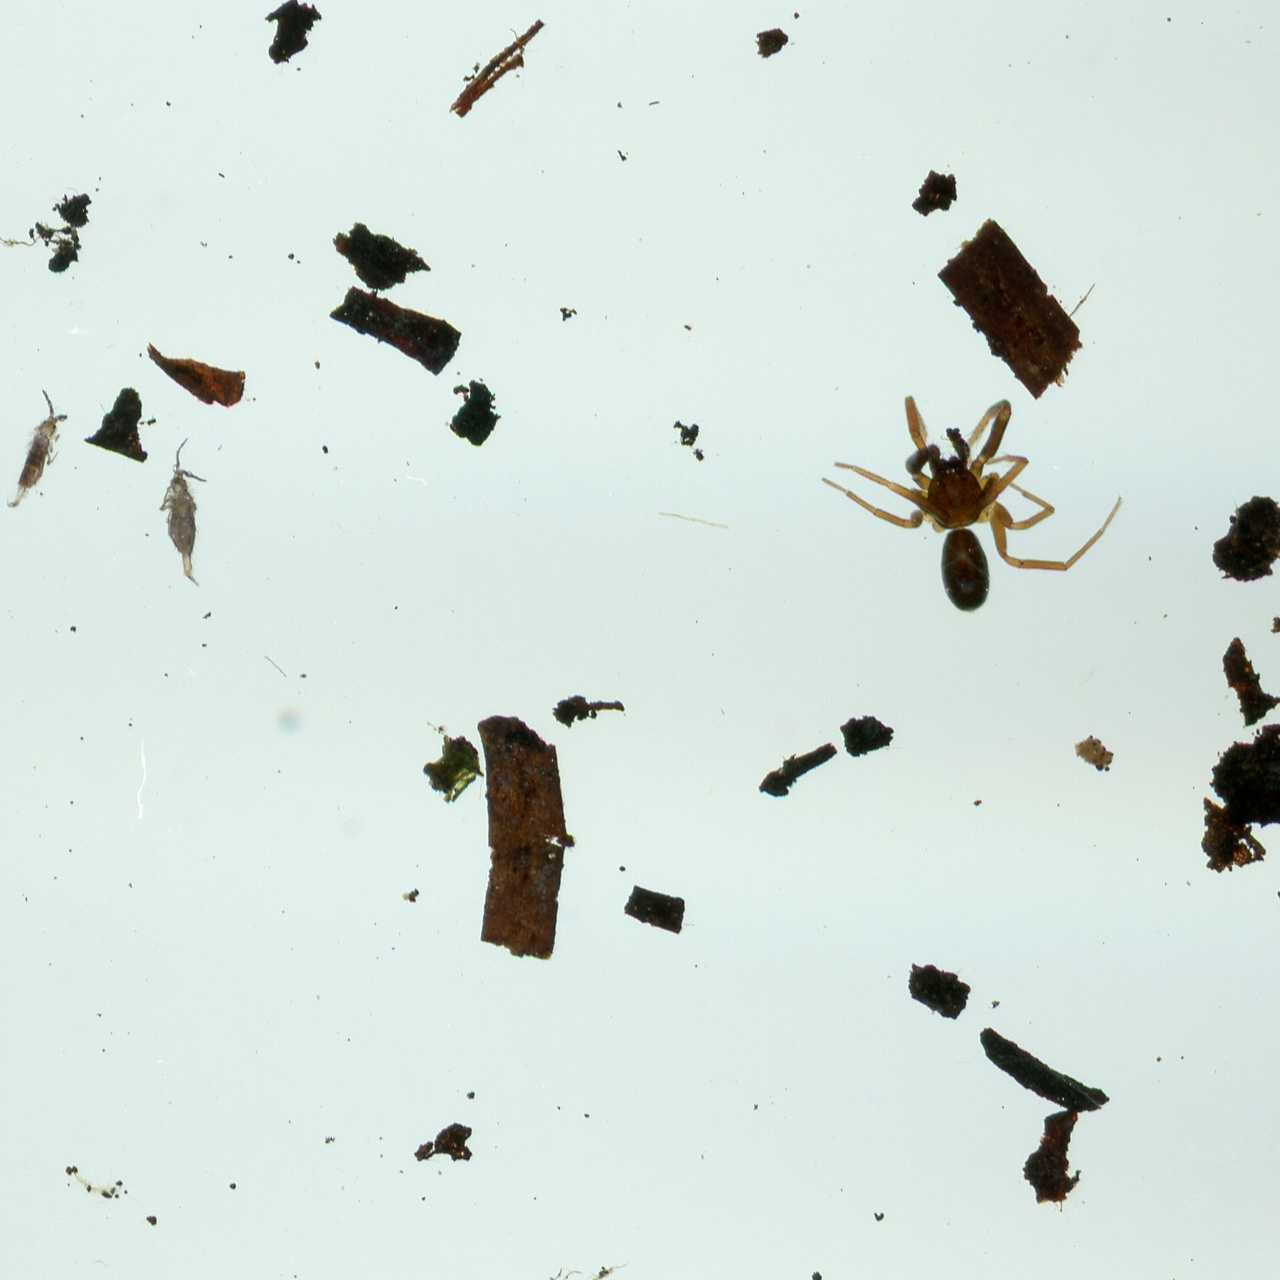arthropod: (820, 396, 1126, 610), (158, 434, 210, 601), (6, 387, 70, 510)
